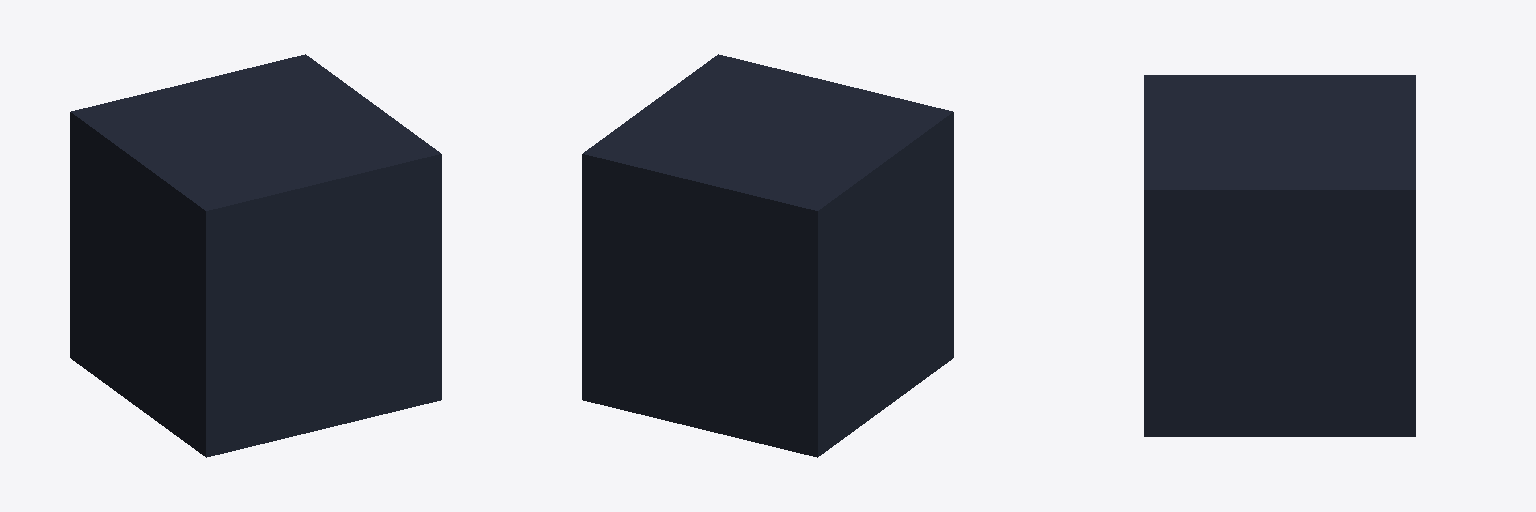
File: acrylic_cube.obj
3 renders of one model, left to right at view 1: azimuth 30°, elevation 25°; view 2: azimuth 150°, elevation 25°; view 3: azimuth 270°, elevation 25°, orthographic.
Visible parts, largest first — view 1: acrylic_cube; view 2: acrylic_cube; view 3: acrylic_cube.
Part boxes in pixels (x1,y1,x2,y2): acrylic_cube: (70, 54, 441, 457); acrylic_cube: (582, 54, 953, 457); acrylic_cube: (1144, 75, 1415, 436).
Size of the model in its own units: 0.2 by 0.2 by 0.2.